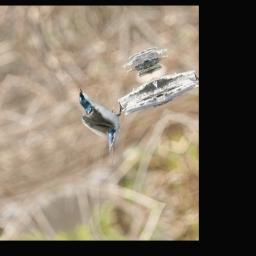Swallow: (70, 76, 141, 169)
